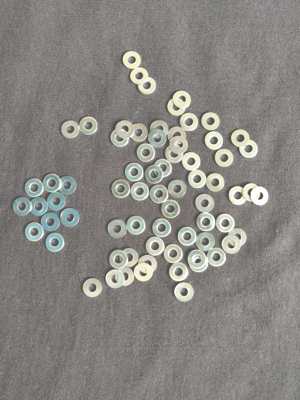circle: (207, 248, 227, 268), (125, 162, 145, 182), (83, 278, 102, 298), (170, 262, 189, 282), (45, 233, 65, 252), (25, 222, 44, 242), (41, 212, 60, 232), (108, 219, 127, 239), (120, 248, 139, 268), (164, 244, 183, 264), (152, 219, 172, 238), (150, 184, 169, 204), (110, 129, 130, 148), (222, 236, 242, 255), (175, 283, 194, 302), (106, 270, 125, 289), (115, 268, 134, 287), (134, 263, 153, 282), (61, 208, 80, 227), (58, 176, 77, 195), (25, 178, 44, 197), (127, 216, 146, 235), (146, 237, 165, 256), (109, 250, 128, 269), (206, 173, 225, 192), (188, 250, 207, 269), (111, 179, 130, 198), (145, 165, 164, 184), (188, 170, 207, 189), (182, 152, 201, 171), (168, 126, 187, 145), (137, 143, 156, 162), (79, 116, 98, 135), (148, 129, 167, 148), (150, 120, 169, 139), (201, 112, 220, 131), (205, 131, 224, 150), (231, 129, 250, 148), (196, 194, 215, 213), (178, 227, 197, 246), (196, 233, 215, 252), (216, 214, 235, 233), (47, 192, 66, 211), (30, 197, 48, 217), (190, 253, 208, 273), (239, 140, 259, 158), (129, 124, 149, 142), (139, 255, 157, 274), (13, 197, 31, 216), (43, 174, 61, 193), (229, 187, 248, 205), (154, 159, 173, 177), (168, 180, 187, 198), (170, 136, 189, 154), (62, 120, 80, 139), (180, 113, 199, 131), (215, 149, 234, 167), (197, 213, 215, 232), (173, 91, 192, 109), (137, 77, 156, 95), (122, 51, 141, 69), (115, 121, 134, 139), (251, 187, 269, 205), (162, 200, 180, 218), (131, 183, 149, 201), (166, 145, 184, 163), (229, 229, 247, 247), (243, 184, 261, 202), (168, 98, 186, 116), (130, 68, 149, 85)
